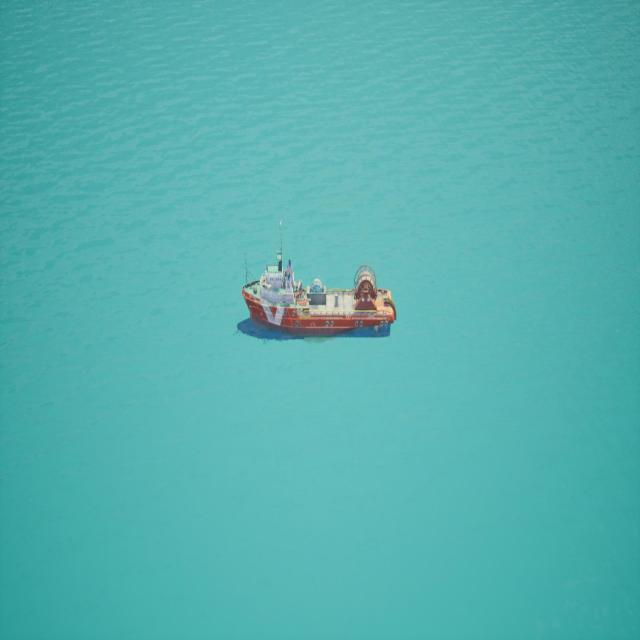tug boat: (240, 220, 402, 343)
